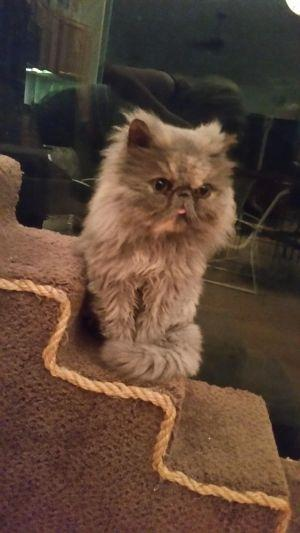persian: (90, 107, 251, 256)
